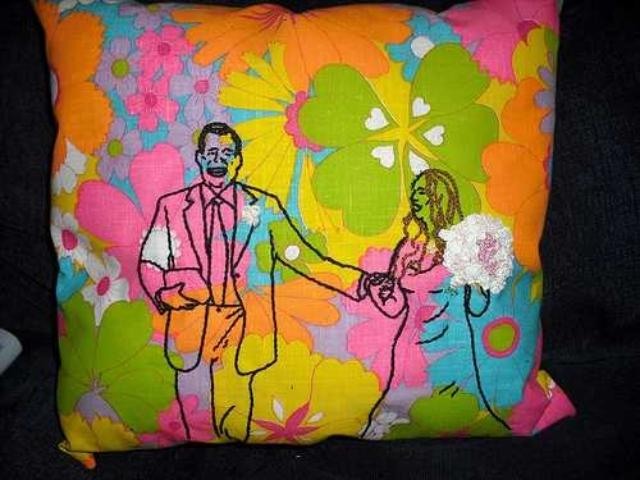pillow: (31, 0, 575, 464)
